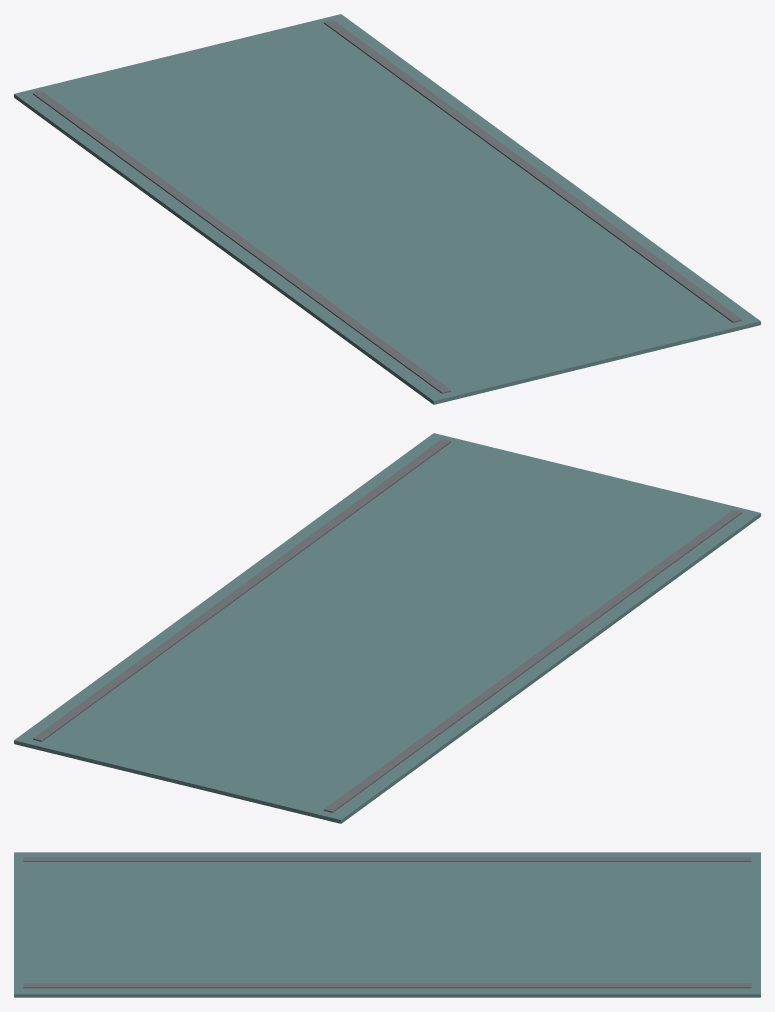
The model's file is cloth_runner_4m.glb.
3 views of the same model, one above another, from view 1: azimuth 30°, elevation 25°; view 2: azimuth 150°, elevation 25°; view 3: azimuth 270°, elevation 25° (orthographic). The views are drawn at different scales.
Parts seen in each view (by area): view 1: cloth_runner_4m_Static; view 2: cloth_runner_4m_Static; view 3: cloth_runner_4m_Static.
Boxes of the visible parts, bbox=[...] form: cloth_runner_4m_Static: bbox=[14, 14, 760, 404]; cloth_runner_4m_Static: bbox=[14, 433, 760, 823]; cloth_runner_4m_Static: bbox=[14, 852, 760, 997].
Size of the model in its own units: 1.8 by 0.027 by 4.
